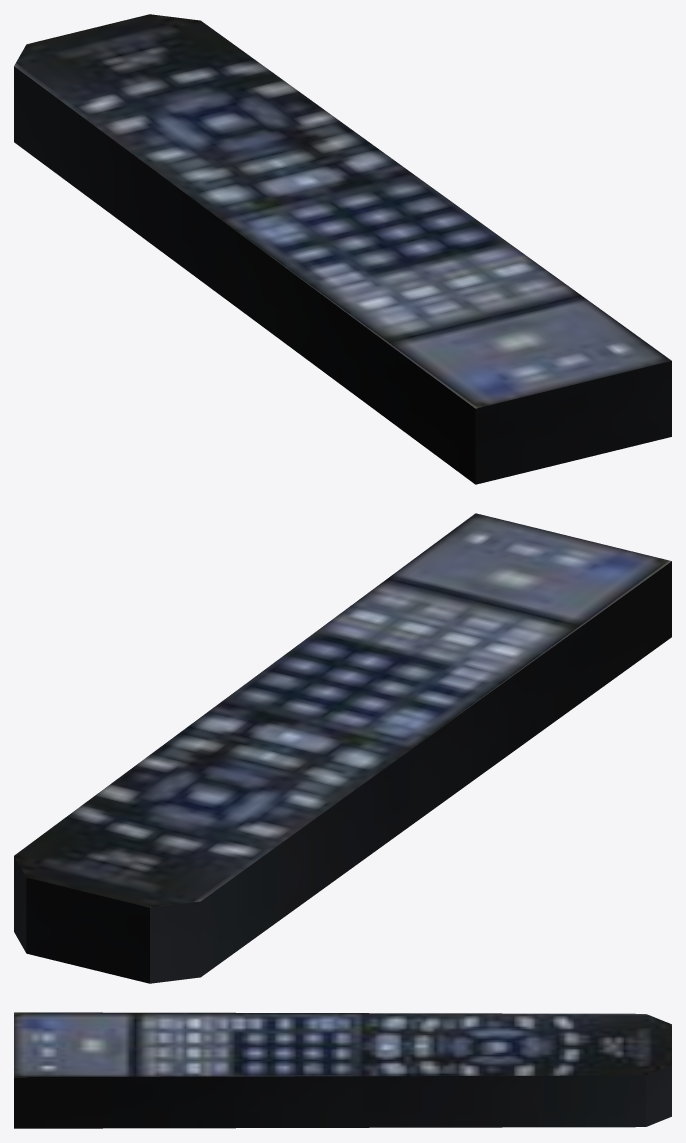
Rendered from Control-col.glb.
3 renders of one model, top to bottom at view 1: azimuth 30°, elevation 25°; view 2: azimuth 150°, elevation 25°; view 3: azimuth 270°, elevation 25°, orthographic. The views are drawn at different scales.
Visible parts, largest first — view 1: Control-col; view 2: Control-col; view 3: Control-col.
Boxes of the visible parts, x1=… form: Control-col: x1=14, y1=14, x2=671, y2=484; Control-col: x1=14, y1=513, x2=671, y2=983; Control-col: x1=14, y1=1012, x2=671, y2=1128.
Bounding box in the file's own units: 0.1078 × 0.0399 × 0.4617.
1 material, 1 textured.
